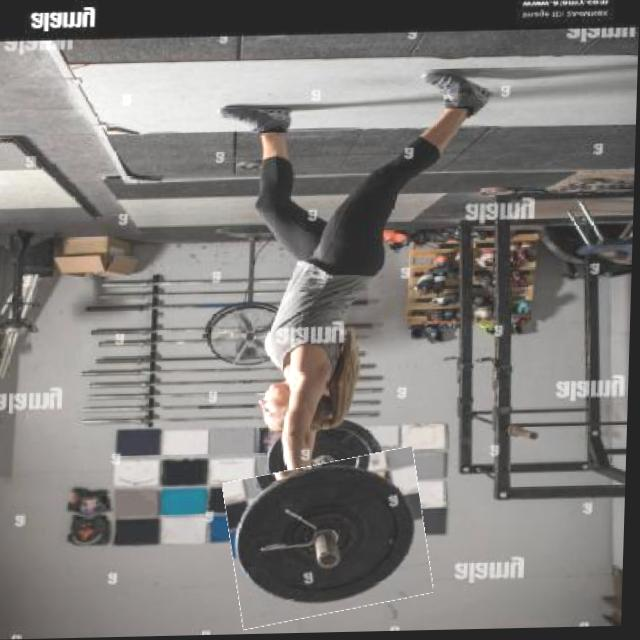barbell: (229, 456, 436, 625)
